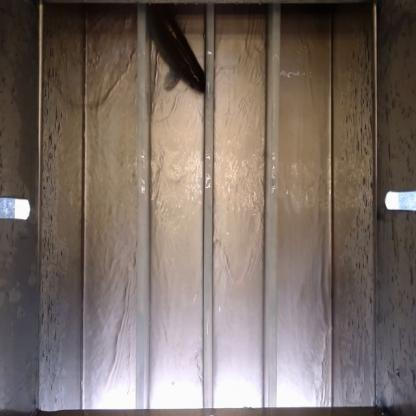pezw: (148, 4, 206, 97)
